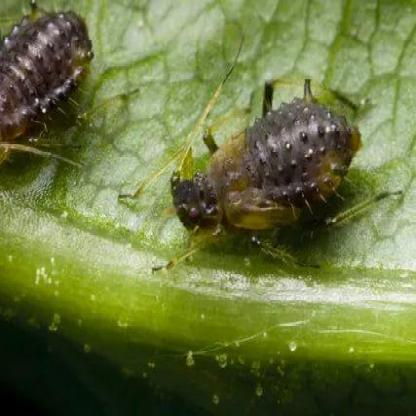aphid: (134, 64, 389, 271), (0, 4, 93, 180)
